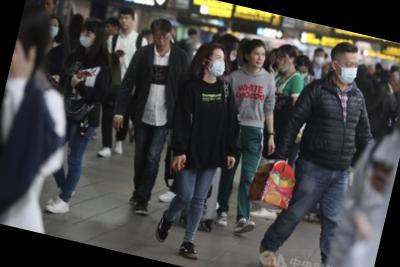mask_weared_incorrect: (272, 51, 293, 73), (227, 46, 240, 62)
with_mask: (333, 56, 362, 87), (204, 51, 231, 80), (78, 28, 97, 50), (44, 20, 61, 39), (314, 52, 327, 67), (298, 68, 310, 81)
without_mask: (151, 31, 173, 52), (248, 49, 268, 70), (116, 13, 135, 32), (104, 24, 117, 37)
